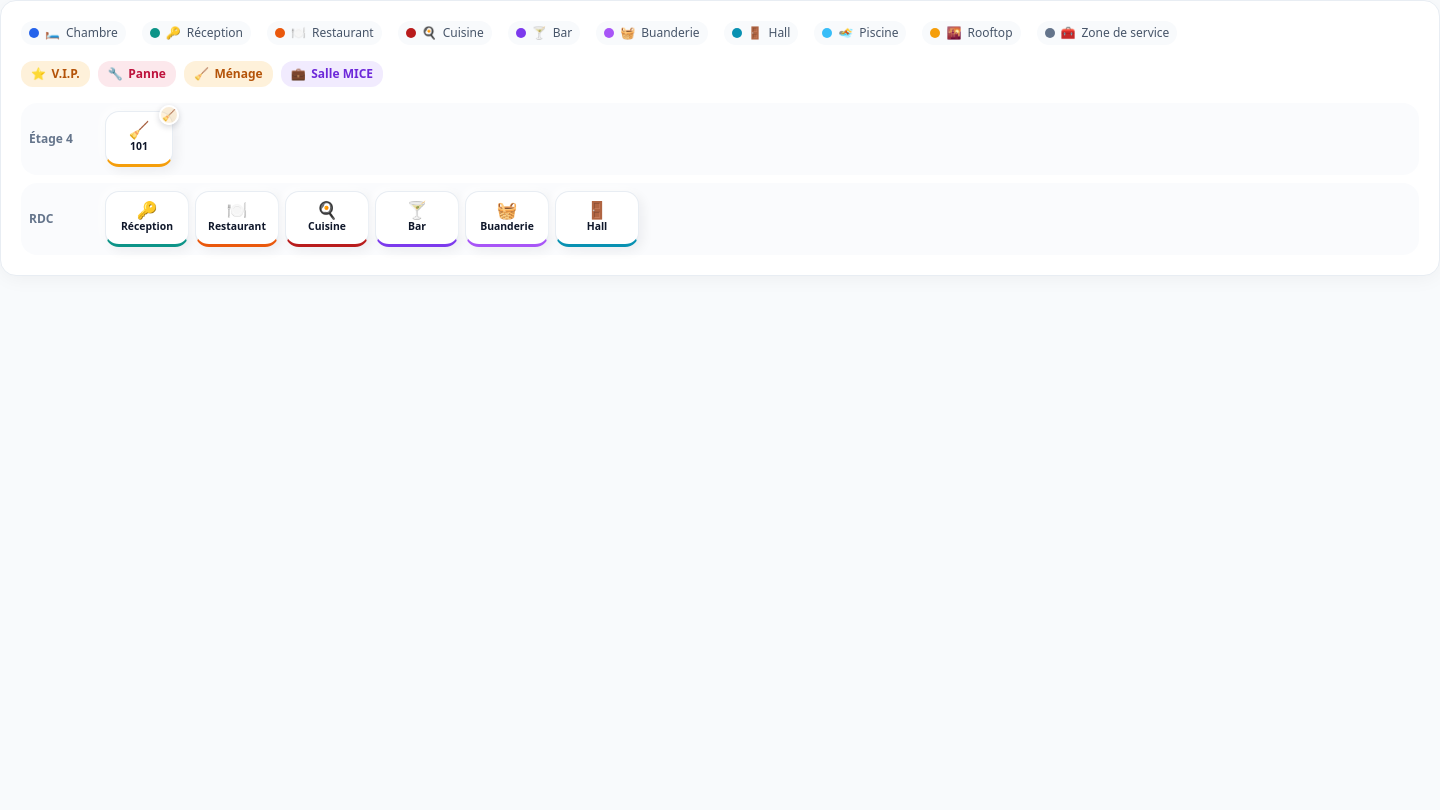
it: SchematicHotelView / direct-action alert indicator › by default (no override), a dirty room's alert indicator opens the real HousekeepingQuickModal, not a navigation
Step 1. Click the button with test id "schematic-room-101-alert" → (169, 115), box [159,105,179,125]
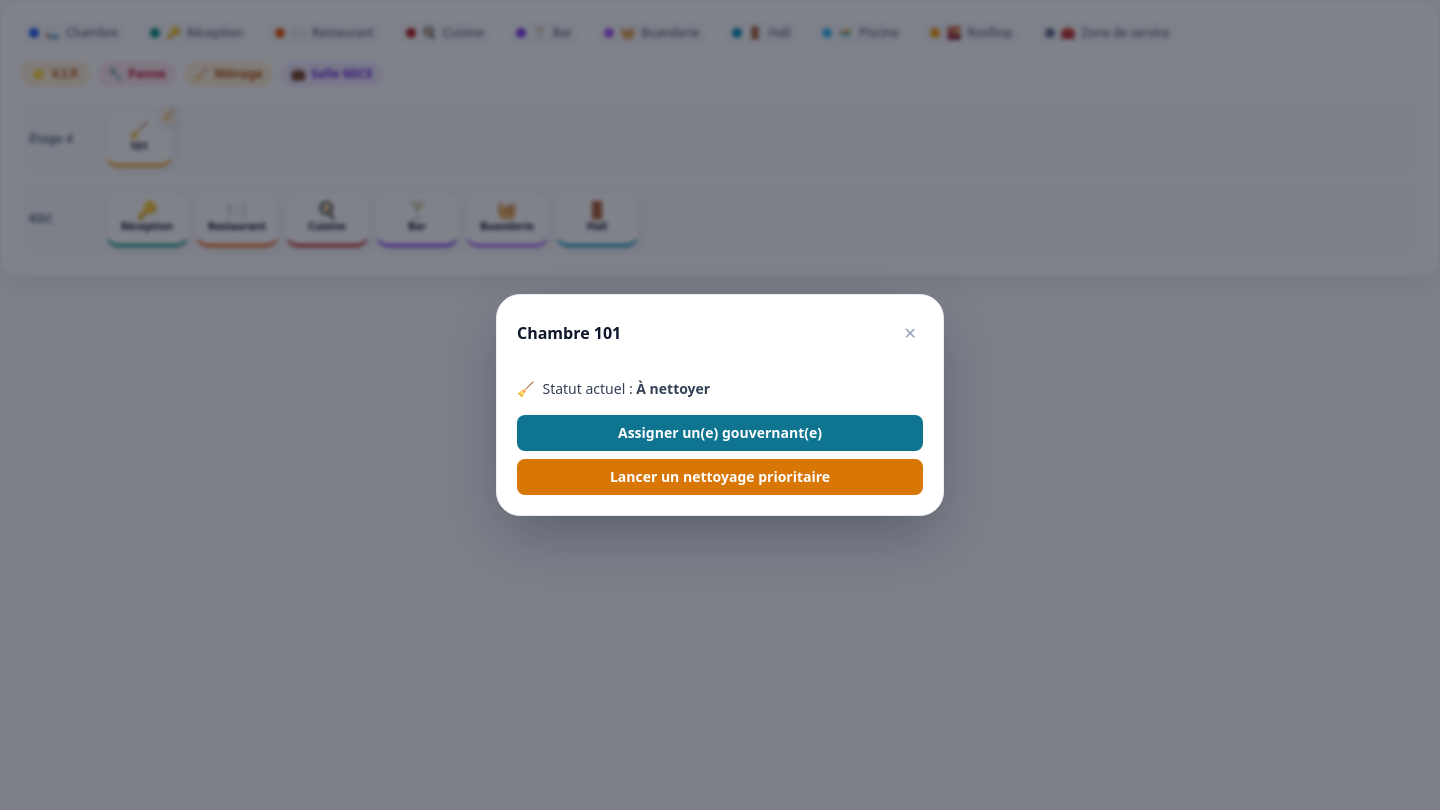
Expected: the heading "Chambre 101" is shown, [517,321,621,345]
